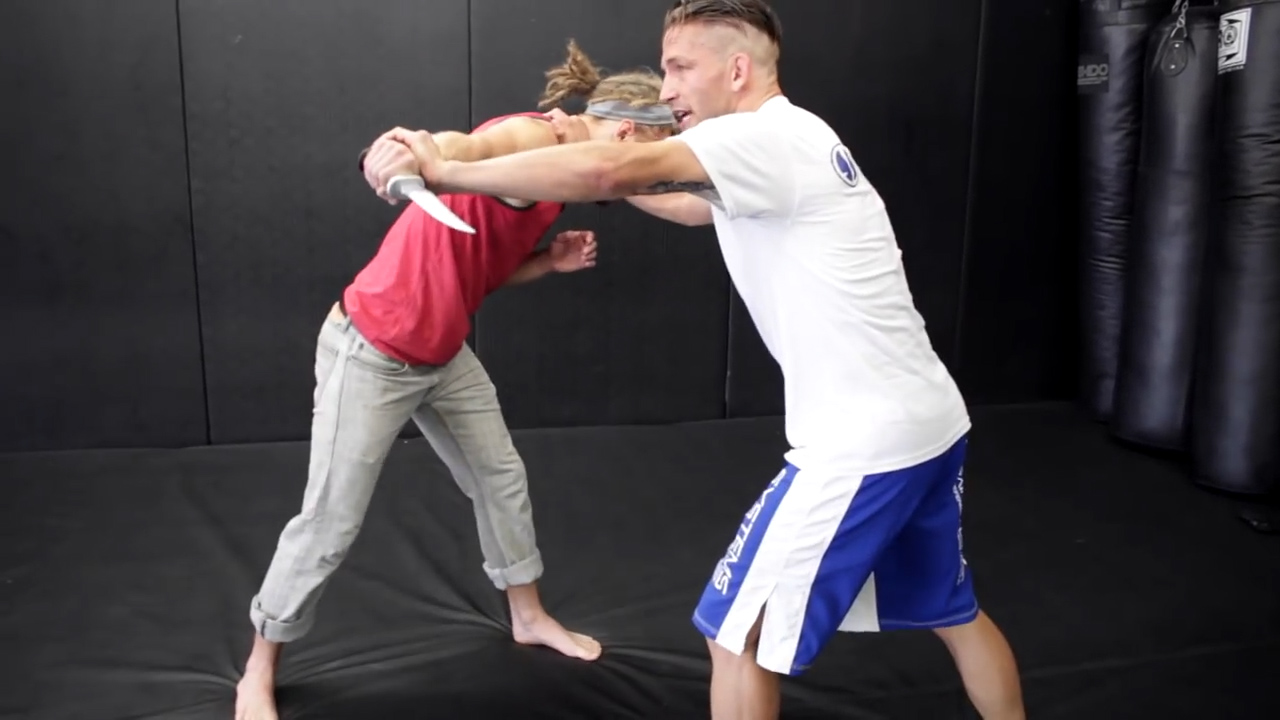knife: (351, 143, 488, 246)
